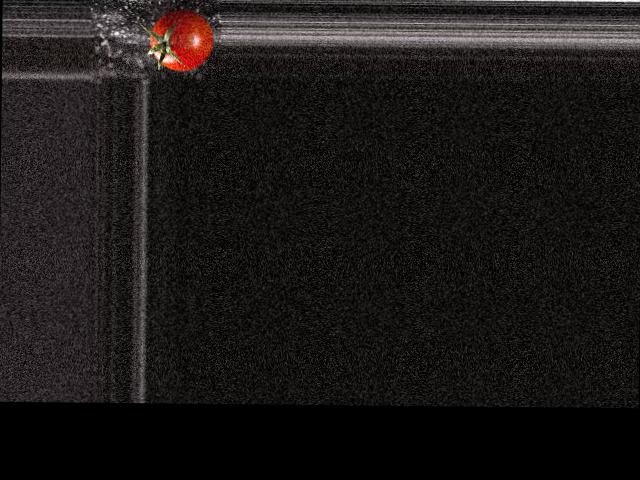tomato: (149, 9, 213, 71)
